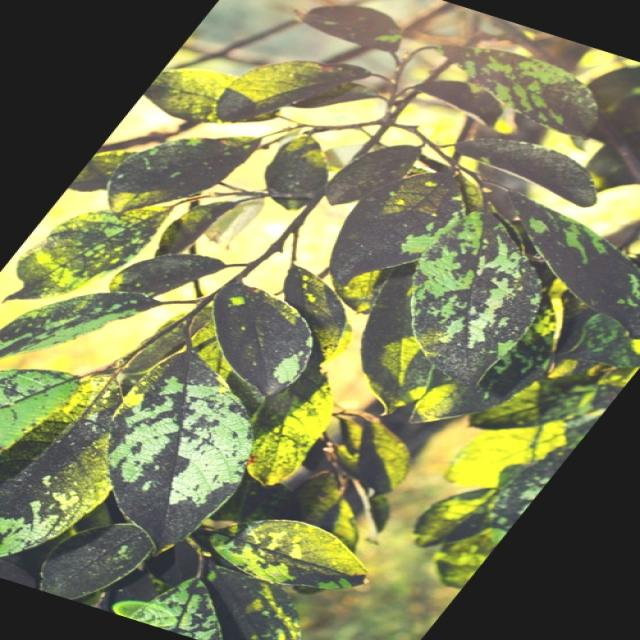Sooty Mold: (3, 3, 636, 637)
